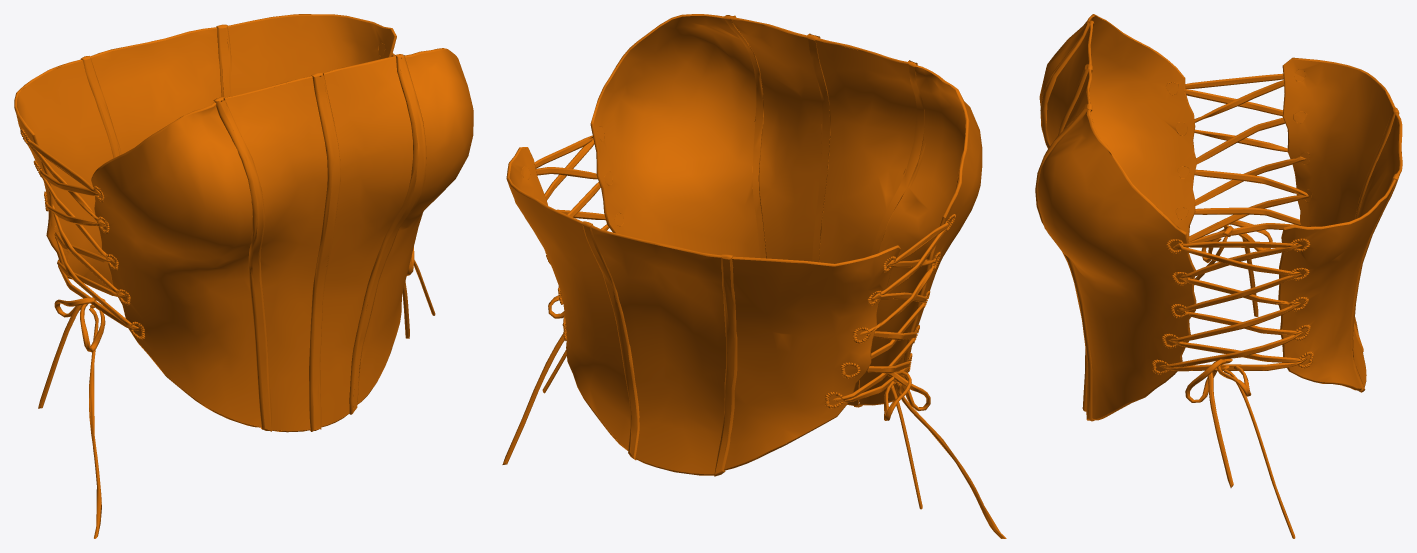
File: corsetem1.glb
3 views of the same model, side by side, from view 1: azimuth 30°, elevation 25°; view 2: azimuth 150°, elevation 25°; view 3: azimuth 270°, elevation 25° (orthographic). The views are drawn at different scales.
Parts seen in each view (by area): view 1: hash_D067EE79.model; view 2: hash_D067EE79.model; view 3: hash_D067EE79.model.
Part boxes in pixels (box(x1,y1,x2,y2)): hash_D067EE79.model: box(14, 14, 473, 538); hash_D067EE79.model: box(502, 14, 1006, 538); hash_D067EE79.model: box(1035, 14, 1402, 538).
Size of the model in its own units: 0.338 by 0.3429 by 0.2745.
